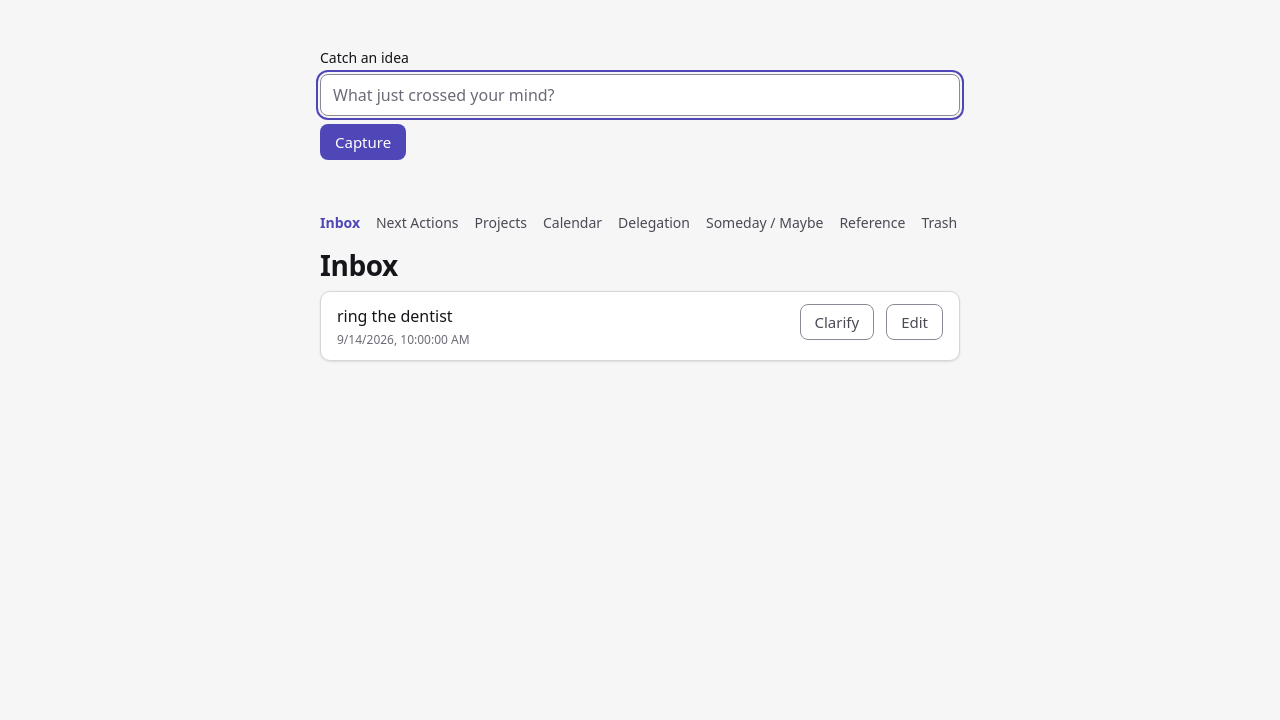
clarifying from the Inbox › keeps the item listed when clarify fails
Expected: the text "ring the dentist" is shown, [337,305,453,327]
Click the button "Clarify" at (837, 322), box [800,304,874,340]
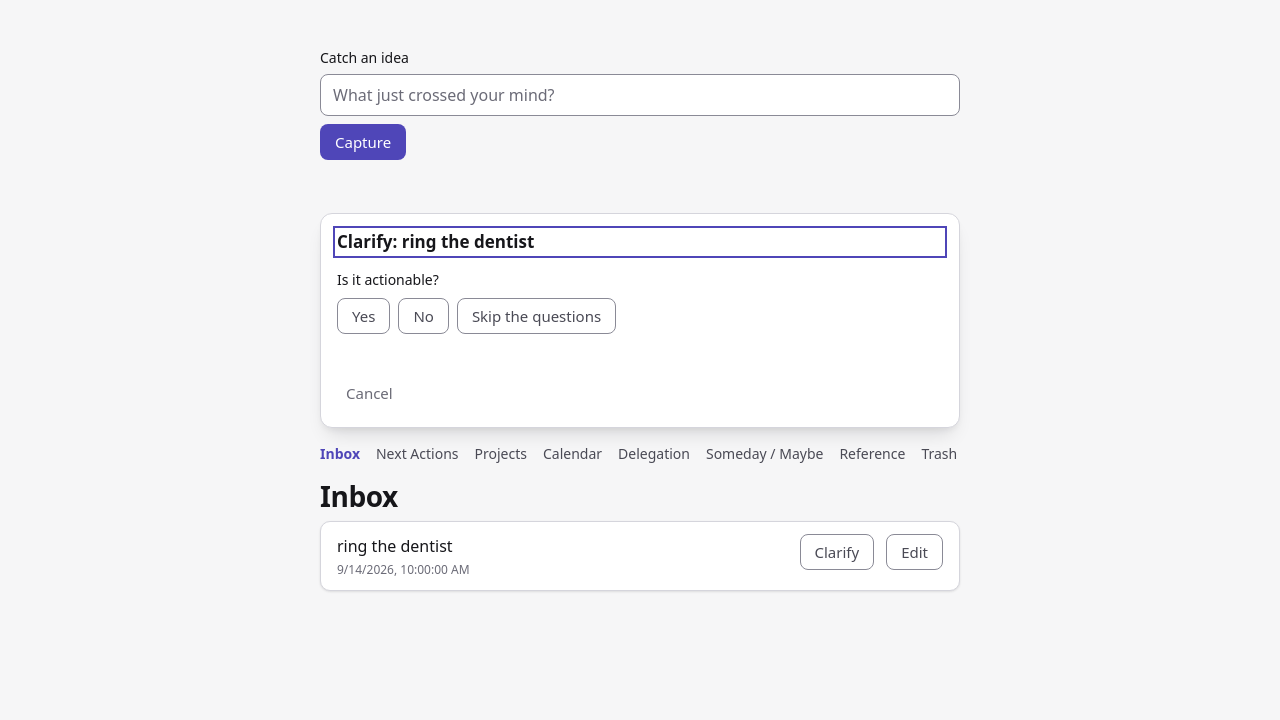
Click the button "No" at (424, 316), box [398,298,449,334]
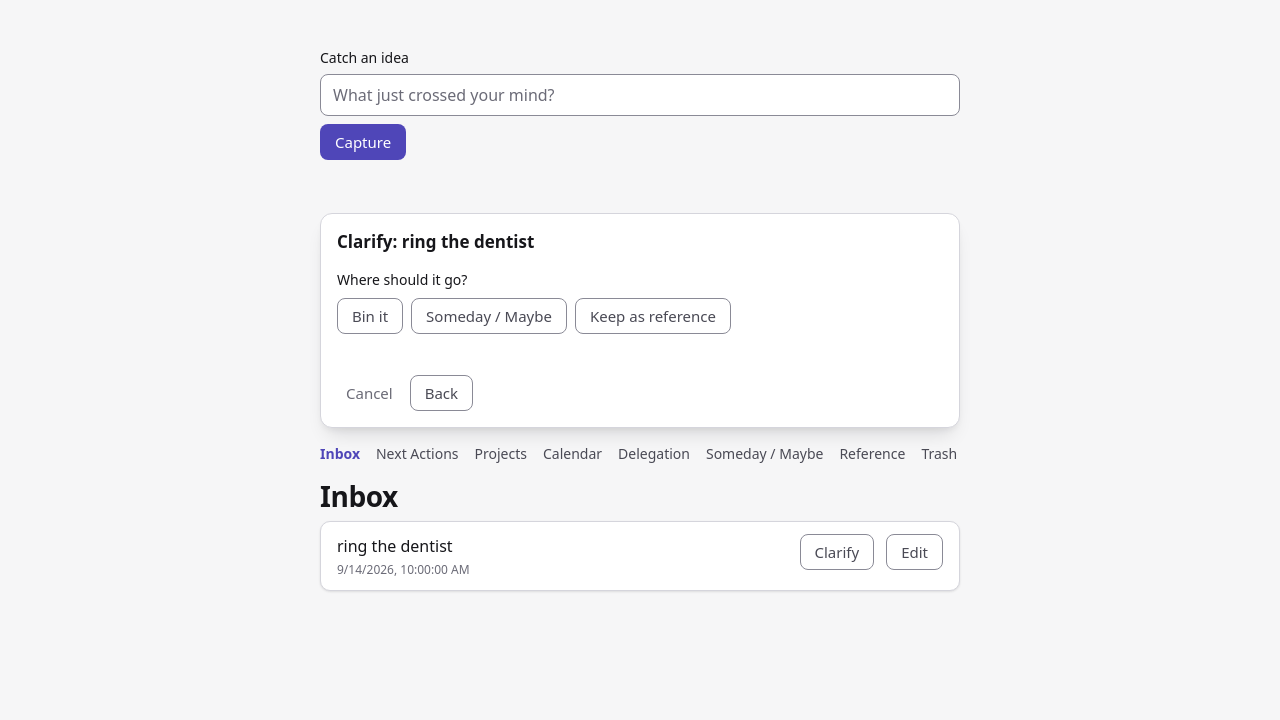
Click the button "Bin it" at (370, 316), box [337,298,403,334]
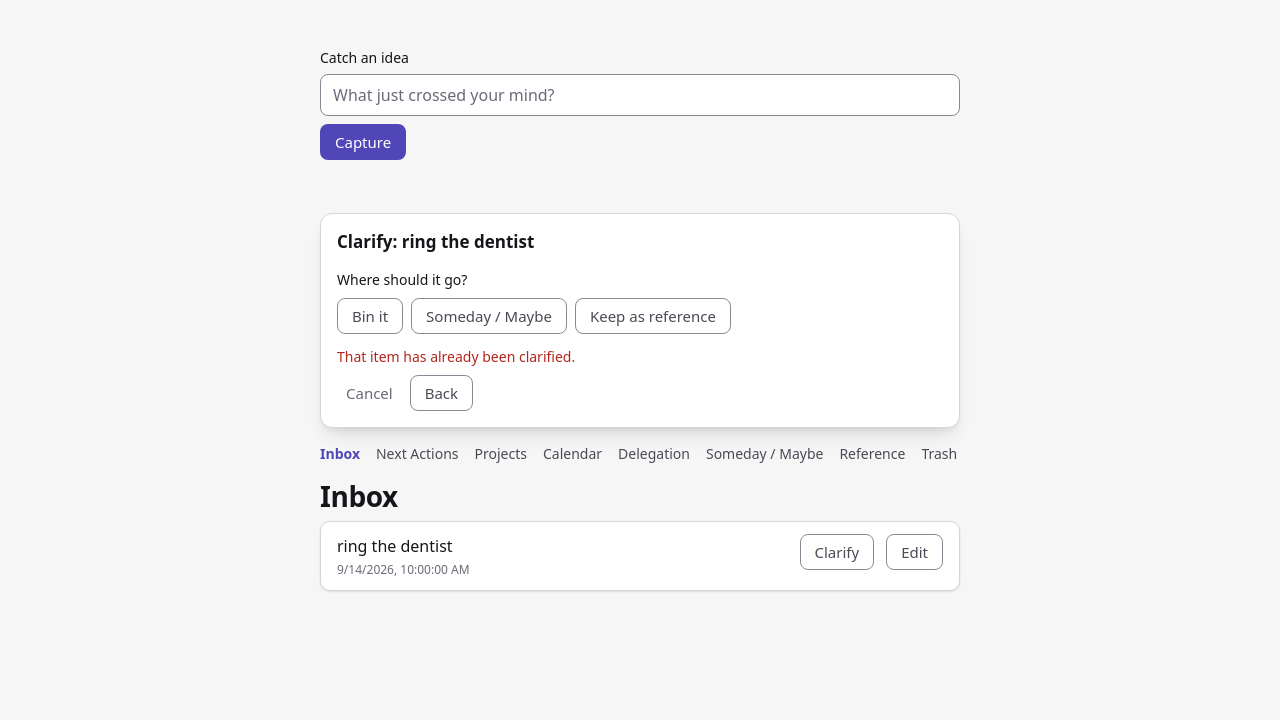
Expected: the text "ring the dentist" is shown, [337,535,453,557]
Now the text "That item has already been clarified." is shown, box [337,347,575,366]
